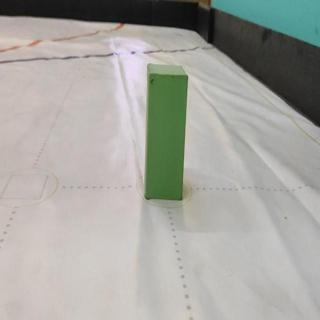greenbox: (143, 60, 191, 200)
